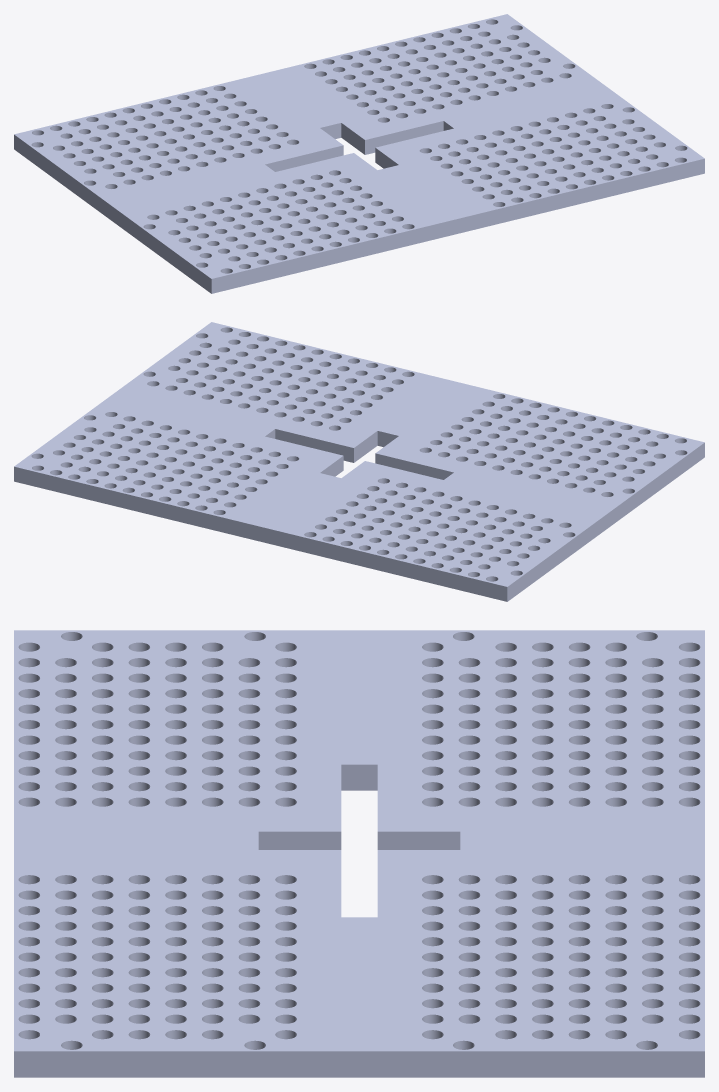
File: body_bottom_1.dae
The picture shows the model from 3 angles, top to bottom: view 1: azimuth 30°, elevation 25°; view 2: azimuth 150°, elevation 25°; view 3: azimuth 270°, elevation 25°; orthographic projection. The views are drawn at different scales.
Visible parts, largest first — view 1: node0; view 2: node0; view 3: node0.
Part boxes in pixels (x1,y1,x2,y2): node0: (14,14,704,293); node0: (14,322,704,601); node0: (14,630,704,1077).
Size of the model in its own units: 0.138 by 0.004 by 0.0957.
